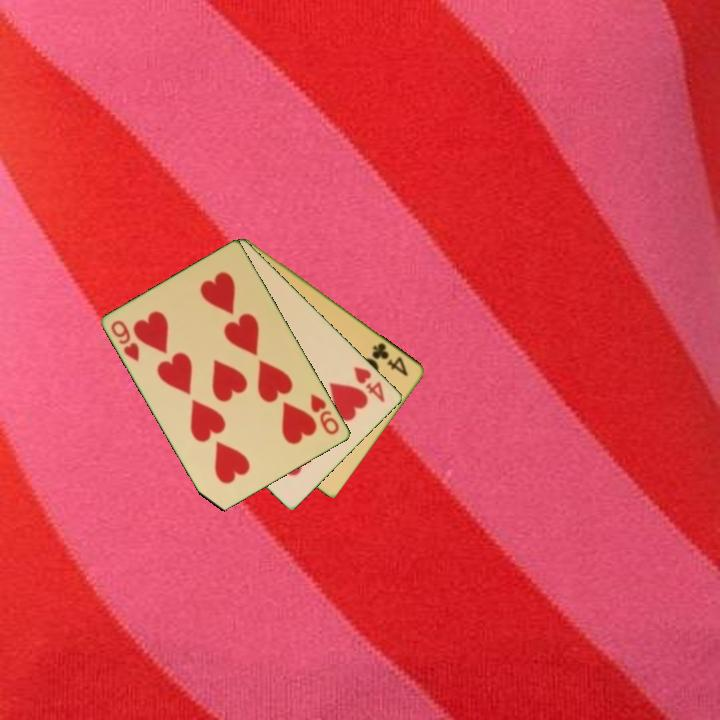4c: (368, 339, 411, 379)
4h: (350, 363, 388, 406)
9h: (307, 390, 342, 438), (108, 317, 143, 365)
